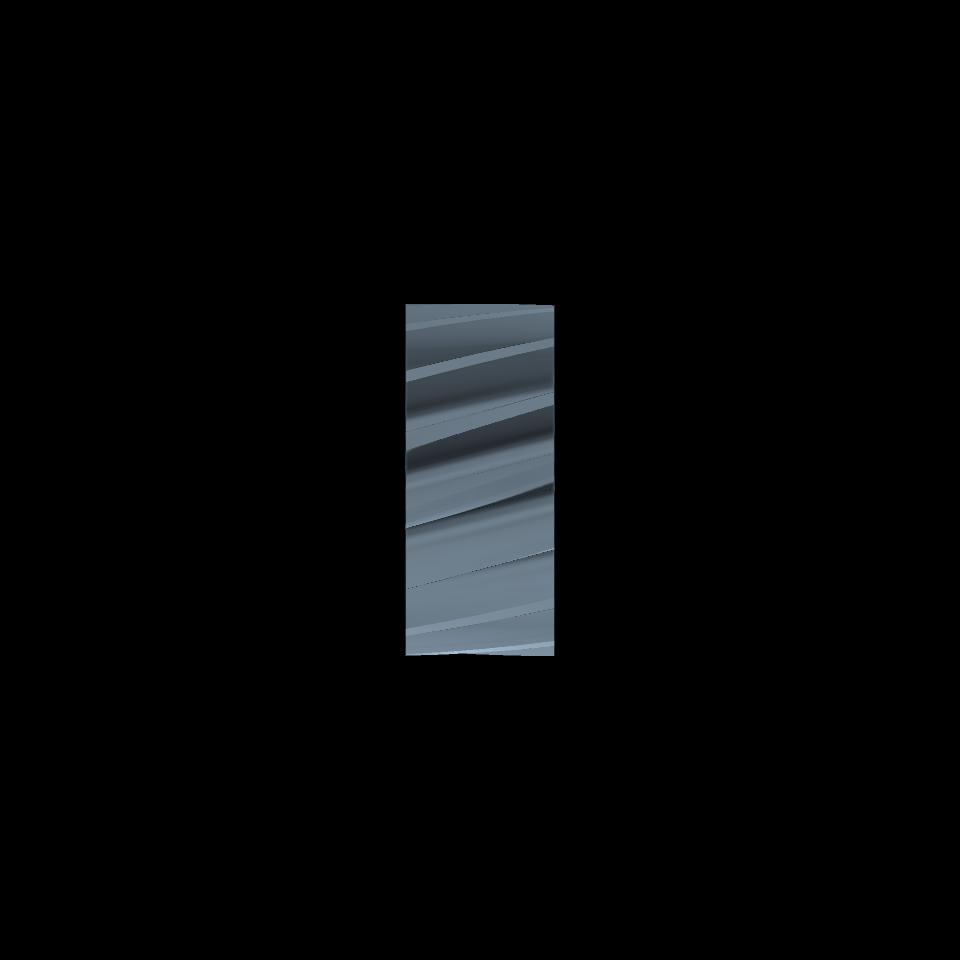Helical: (407, 302, 554, 655)
